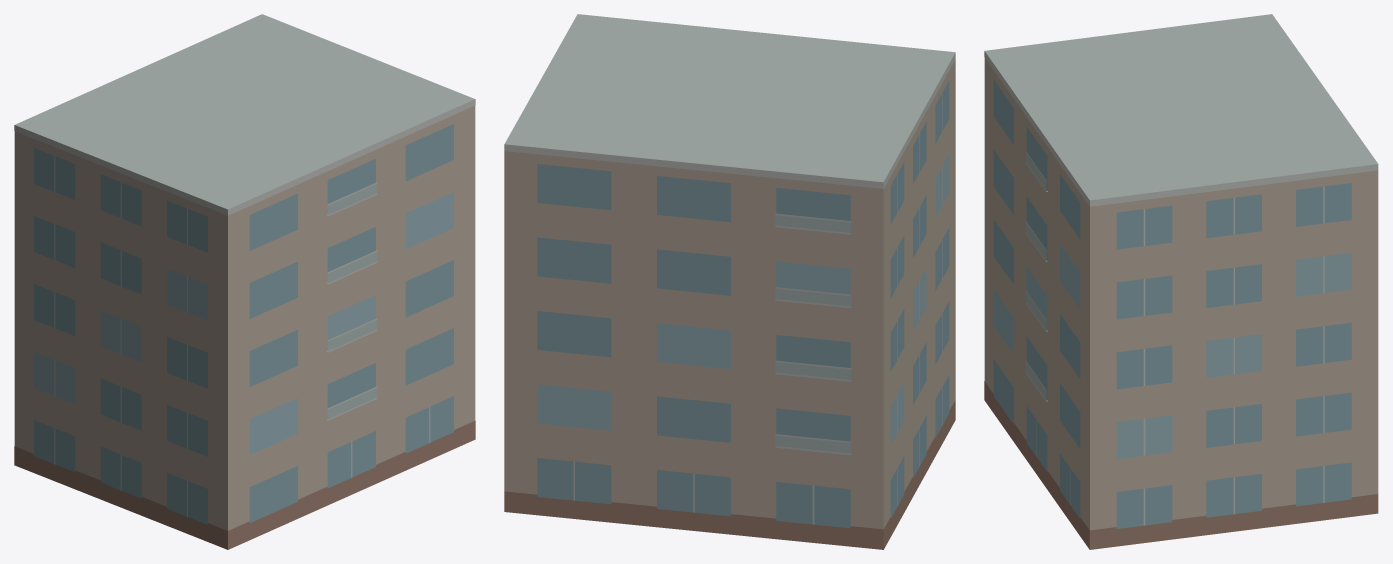
Rendered from survey-upis-32703254.glb.
3 views of the same model, side by side, from view 1: azimuth 30°, elevation 25°; view 2: azimuth 150°, elevation 25°; view 3: azimuth 270°, elevation 25° (orthographic). The views are drawn at different scales.
Visible parts, largest first — view 1: survey-upis-32703254.tmp; view 2: survey-upis-32703254.tmp; view 3: survey-upis-32703254.tmp.
Part boxes in pixels (x1,y1,x2,y2): survey-upis-32703254.tmp: [14, 14, 475, 549]; survey-upis-32703254.tmp: [504, 14, 955, 549]; survey-upis-32703254.tmp: [984, 14, 1378, 549].
Bounding box in the file's own units: 15.35 × 13.4 × 13.7.
